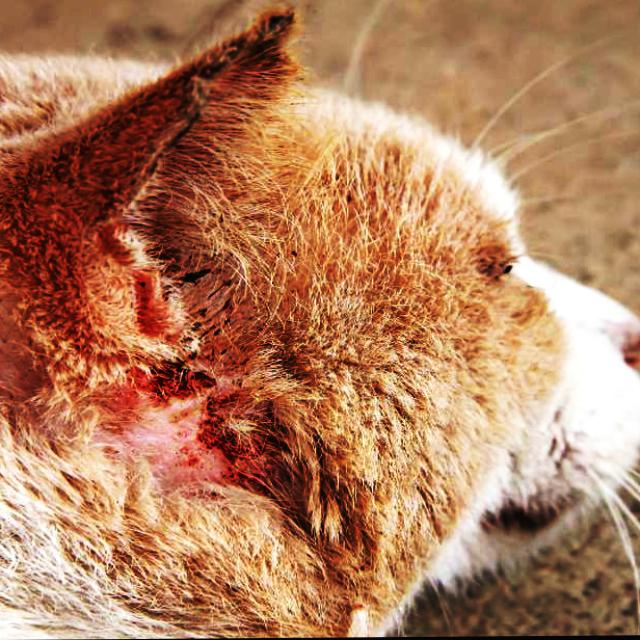ringworm: (91, 343, 270, 491)
